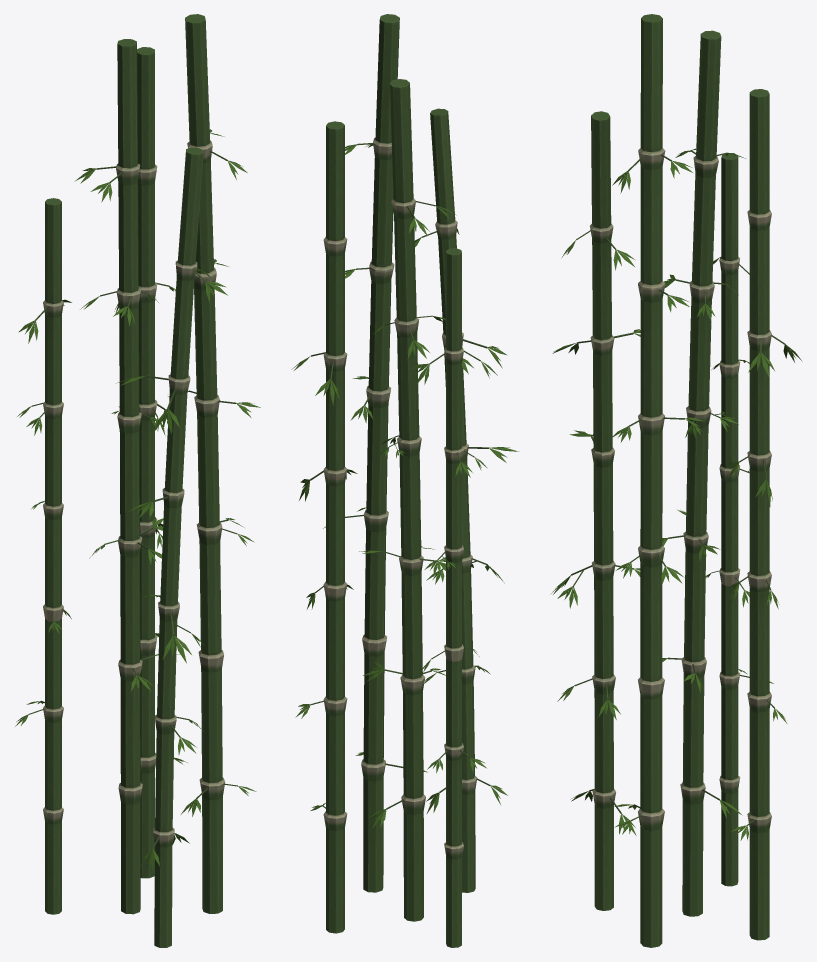
Rendered from bamboo.glb.
3 views of the same model, side by side, from view 1: azimuth 30°, elevation 25°; view 2: azimuth 150°, elevation 25°; view 3: azimuth 270°, elevation 25° (orthographic). The views are drawn at different scales.
Visible parts, largest first — view 1: BambooTree_mesh; view 2: BambooTree_mesh; view 3: BambooTree_mesh.
Part boxes in pixels (x1=…): BambooTree_mesh: x1=15, y1=14, x2=260, y2=947; BambooTree_mesh: x1=291, y1=14, x2=519, y2=947; BambooTree_mesh: x1=550, y1=14, x2=802, y2=947.
Size of the model in its own units: 4.16 by 18.13 by 4.56.
1 material, 1 textured.
